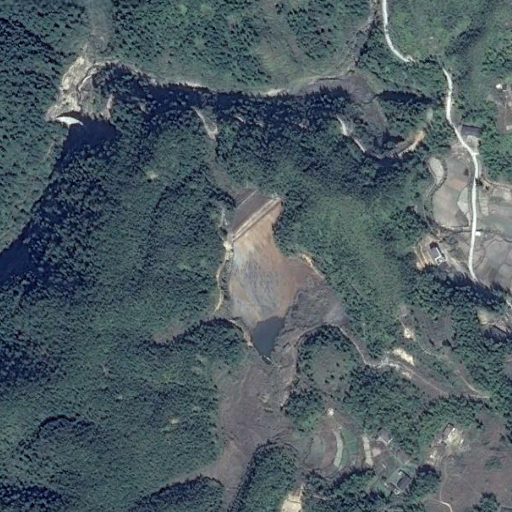tp: (211, 182, 349, 373)
